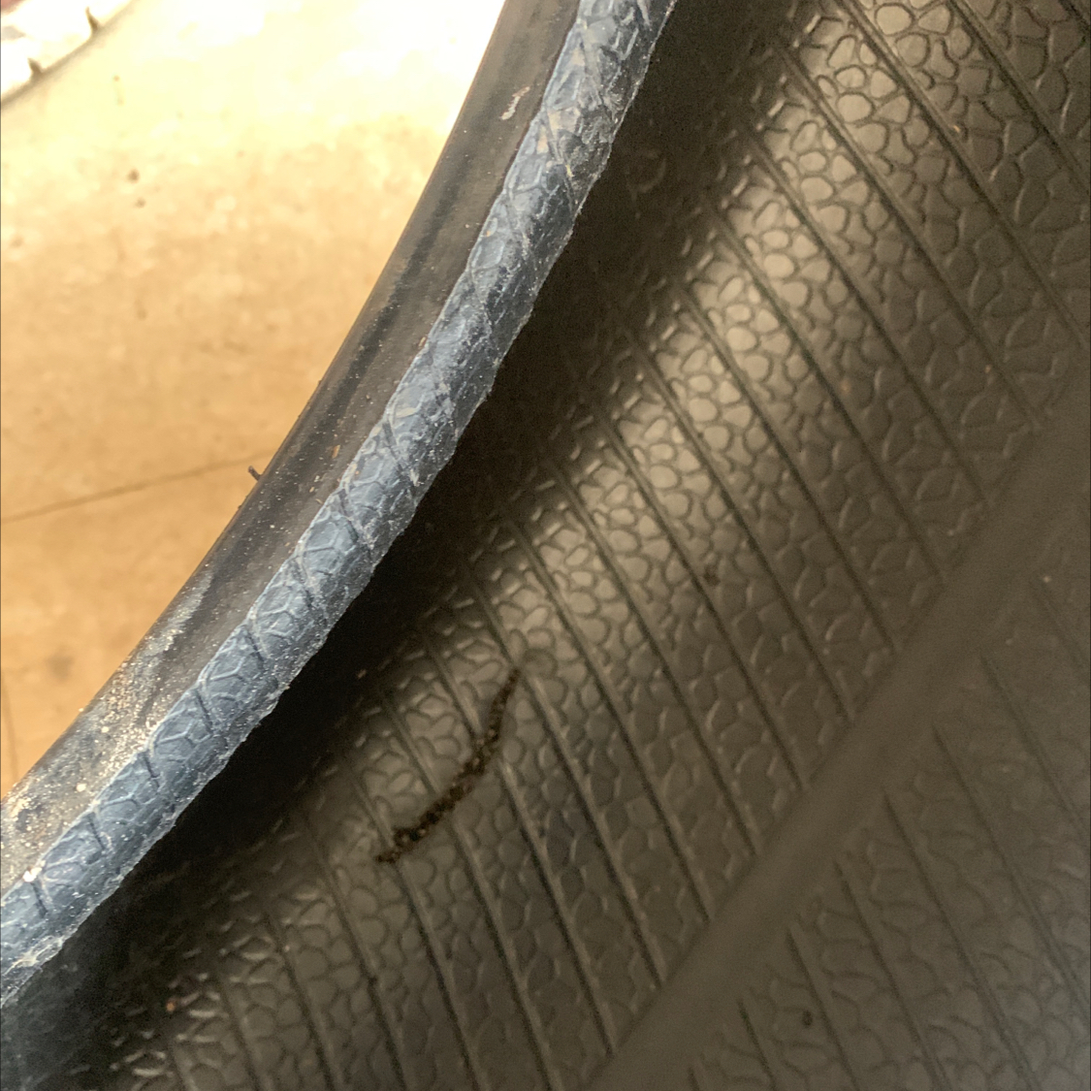cut: (366, 665, 535, 873)
